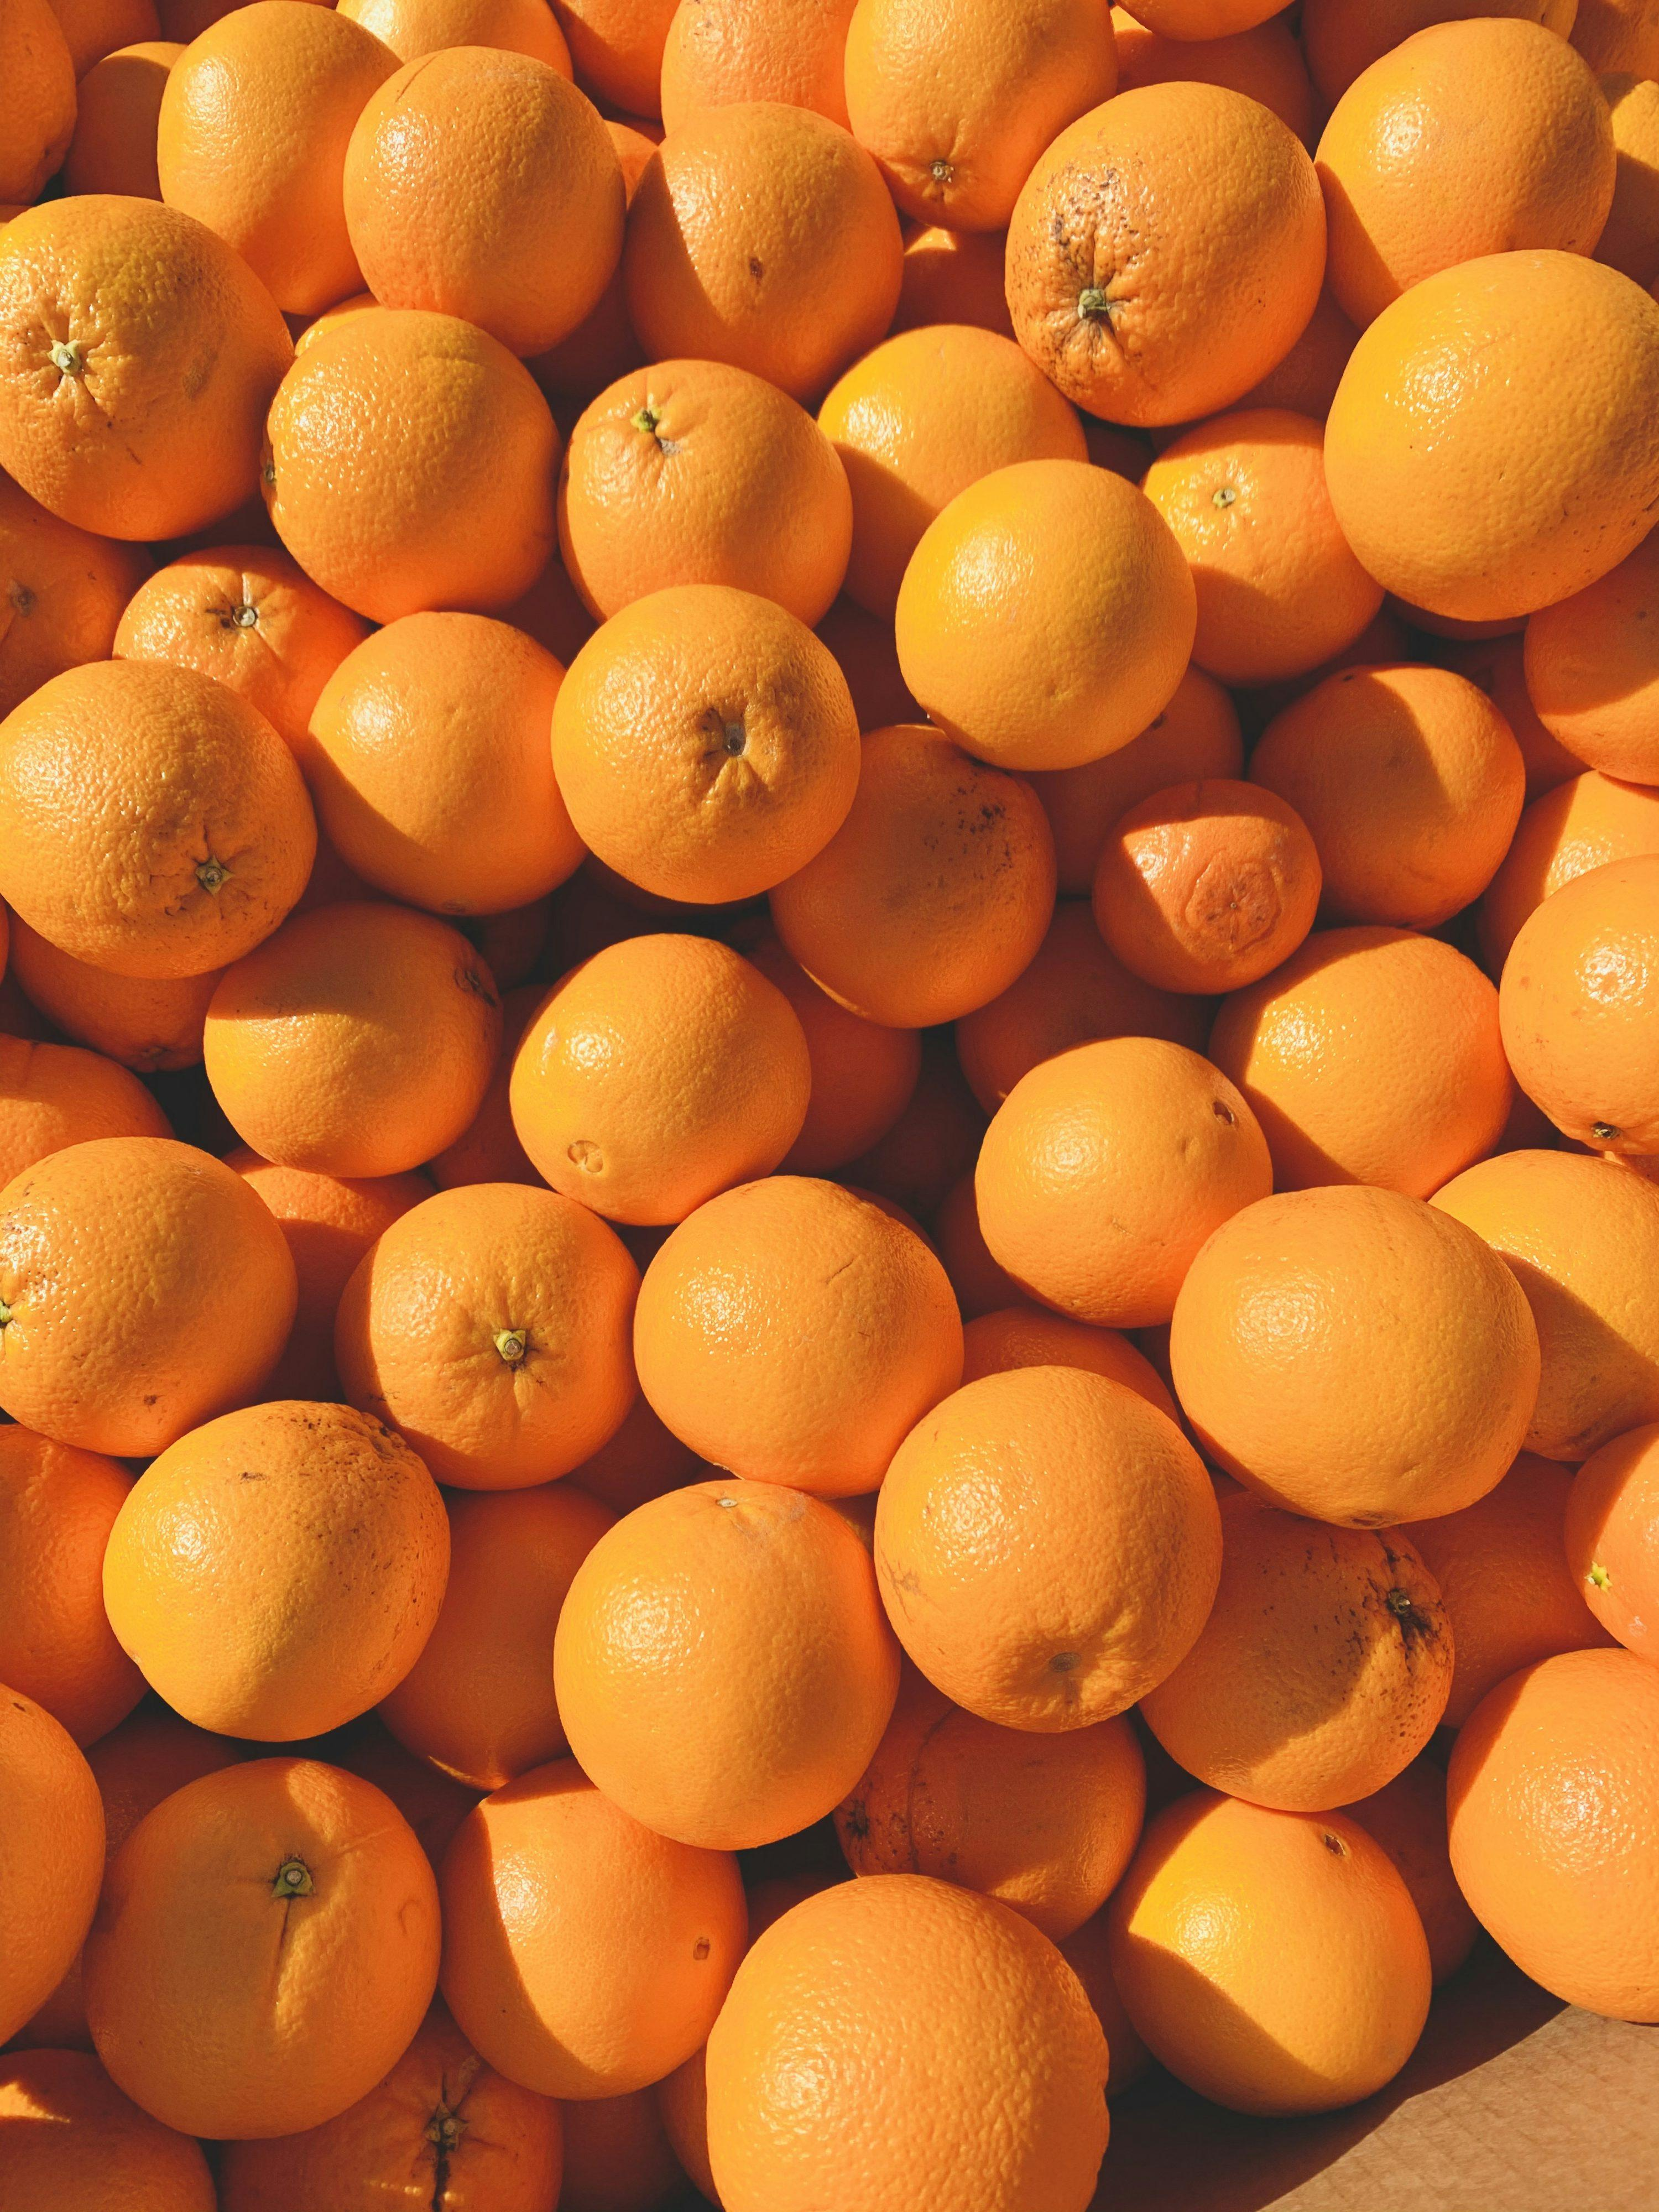orange: (1183, 1190, 1546, 1601), (542, 1472, 904, 1871), (99, 1721, 432, 2141), (702, 1881, 1112, 2212), (990, 73, 1333, 437), (476, 859, 803, 1238), (1100, 1792, 1457, 2120), (105, 1400, 450, 1738), (0, 172, 298, 561), (1354, 266, 1652, 627), (890, 1390, 1218, 1712), (547, 322, 873, 644), (277, 305, 591, 632), (437, 1777, 737, 2092), (10, 1141, 277, 1486), (23, 653, 298, 986), (652, 1169, 945, 1477), (343, 30, 634, 336), (957, 1024, 1249, 1327), (364, 1136, 622, 1468), (929, 460, 1183, 779), (188, 907, 493, 1172), (774, 737, 1046, 1026), (641, 51, 901, 348), (315, 632, 582, 911), (1471, 1660, 1659, 2052), (155, 0, 383, 314), (1206, 1517, 1448, 1810), (1249, 941, 1534, 1184), (857, 1683, 1140, 1925), (603, 610, 856, 876), (1333, 35, 1617, 260), (1262, 658, 1514, 902), (1481, 1141, 1659, 1463), (1161, 421, 1373, 655), (857, 0, 1108, 185), (1514, 869, 1659, 1150), (1107, 803, 1324, 963), (868, 300, 1077, 451)
